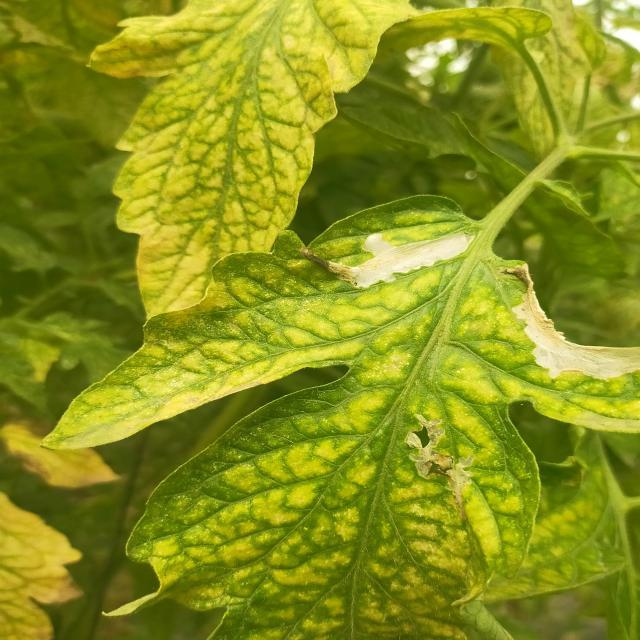Tuta absoluta: (475, 240, 640, 418), (321, 203, 478, 301), (387, 405, 502, 520)
